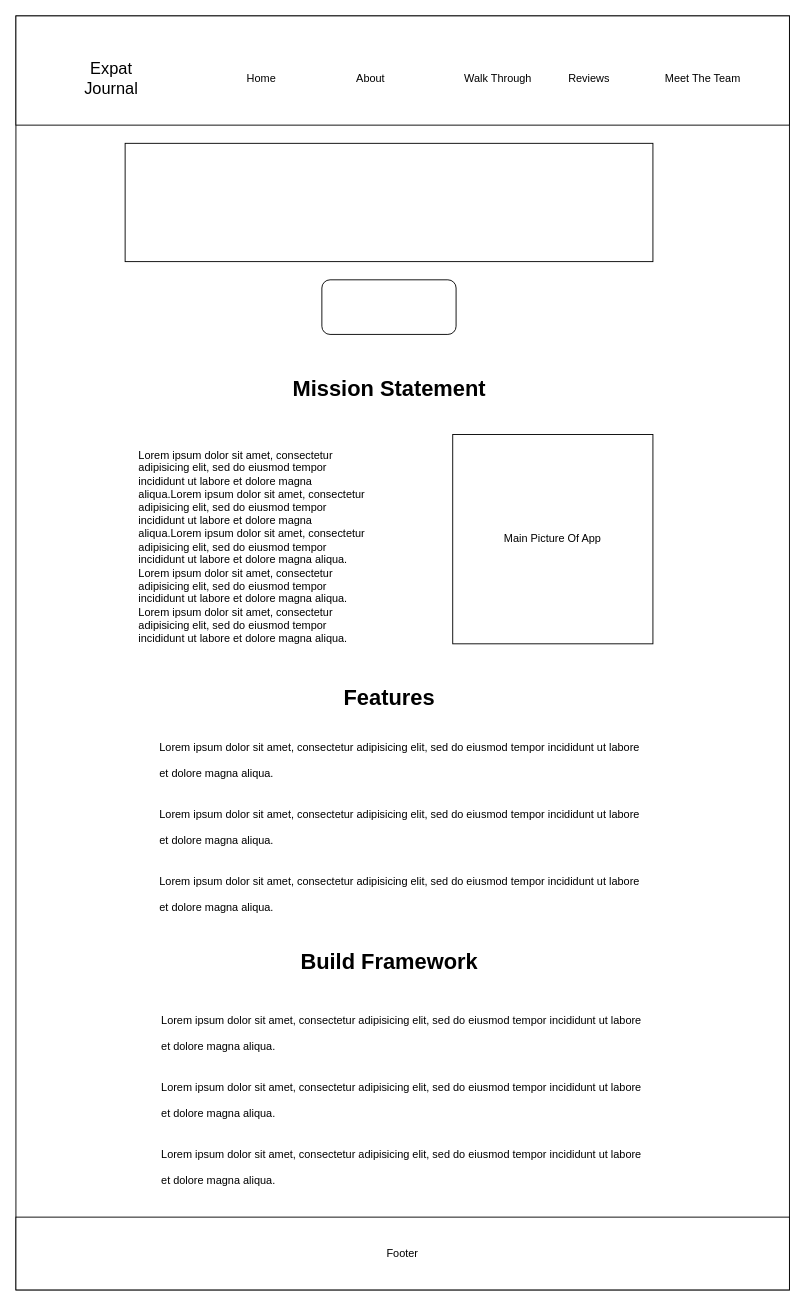
This 805x1306 diagram has some shape labels left out. The box of each missing label's shape, as (x1, y1, x2, y2) in pixels:
Button To App: (321, 279, 456, 334)
Catchy Intro Phrase: (124, 142, 653, 262)
